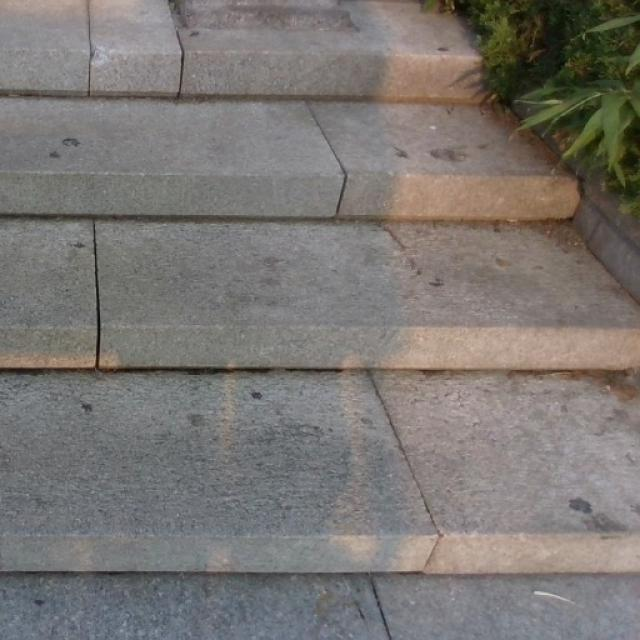Stairs: (0, 0, 639, 579)
